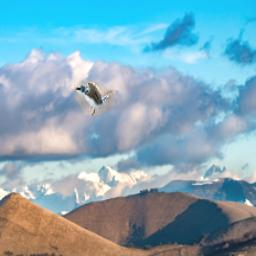Swallow: (74, 79, 116, 115)
